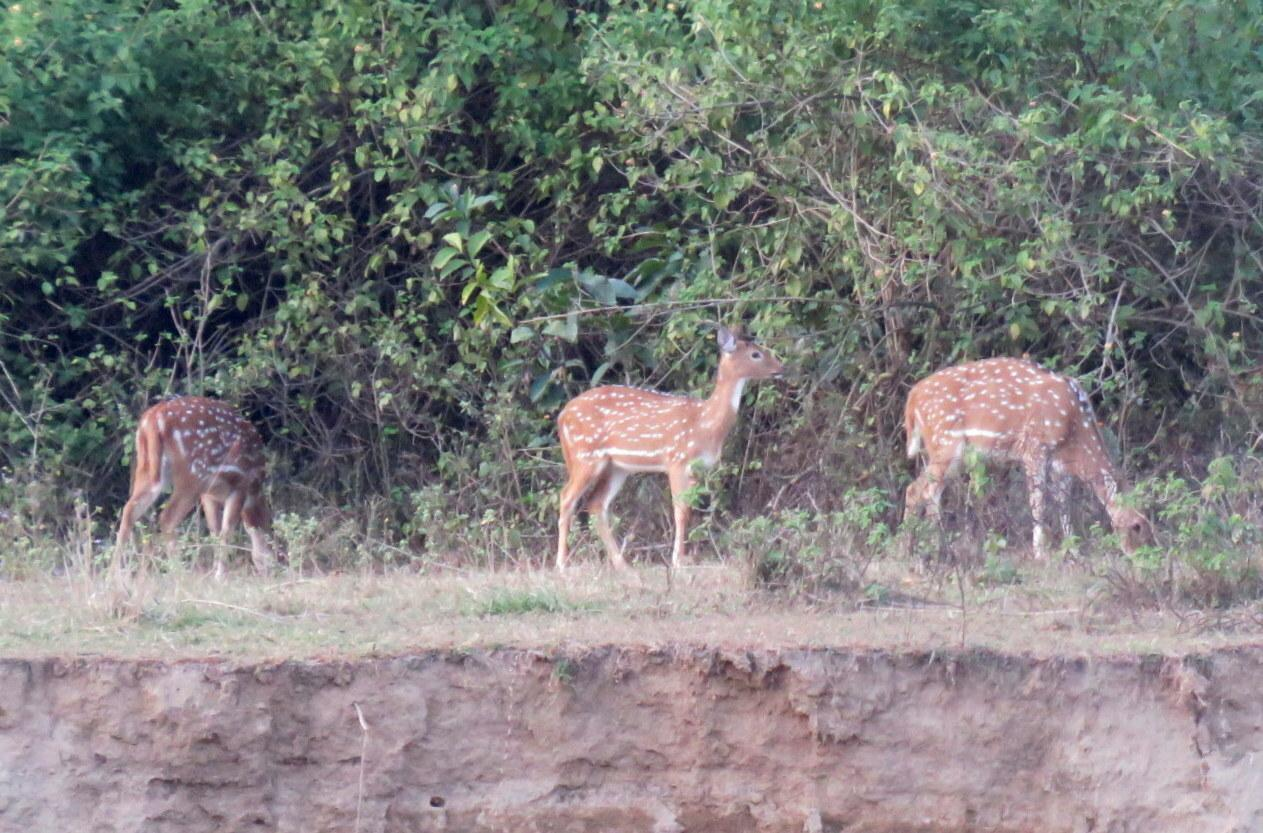Deer: (556, 327, 782, 568), (903, 357, 1151, 558), (118, 396, 275, 574)
